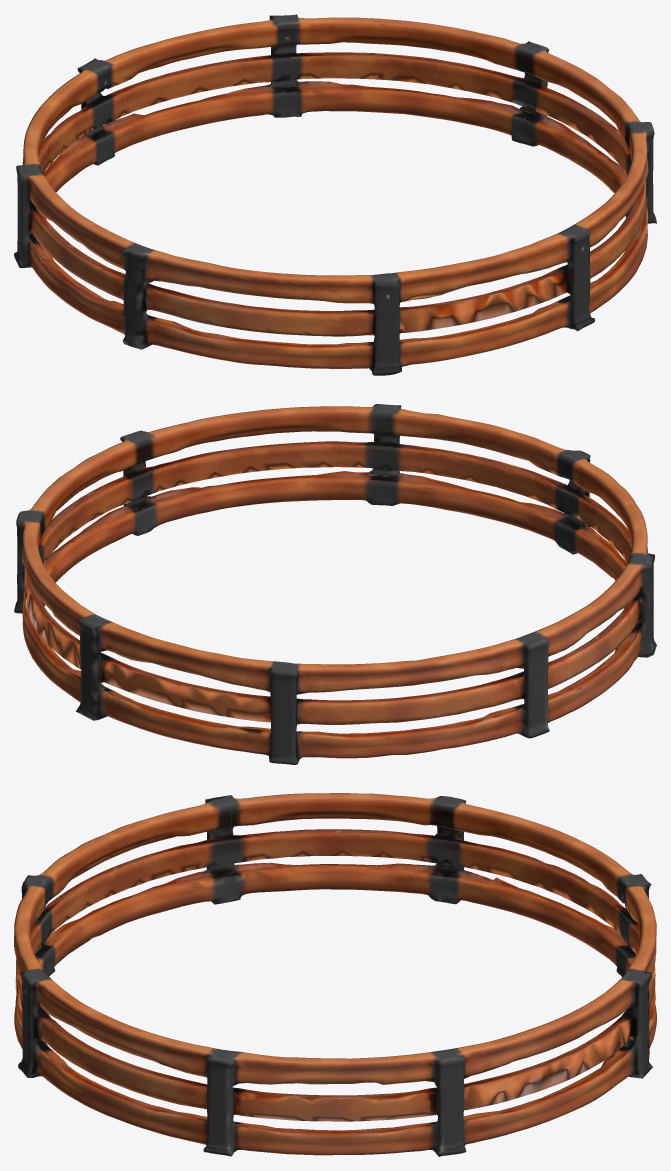
File: Meshy_AI_Circular_Wooden_Barri_0104082911_texture.fbx
3 renders of one model, top to bottom at view 1: azimuth 30°, elevation 25°; view 2: azimuth 150°, elevation 25°; view 3: azimuth 270°, elevation 25°, orthographic. The views are drawn at different scales.
Visible parts, largest first — view 1: Mesh0; view 2: Mesh0; view 3: Mesh0.
Part boxes in pixels (<box>): Mesh0: <box>14,14,656,375</box>; Mesh0: <box>14,404,656,764</box>; Mesh0: <box>14,793,656,1156</box>.
Size of the model in its own units: 190 by 31.23 by 190.
Materials: 1 (1 with a texture image).
